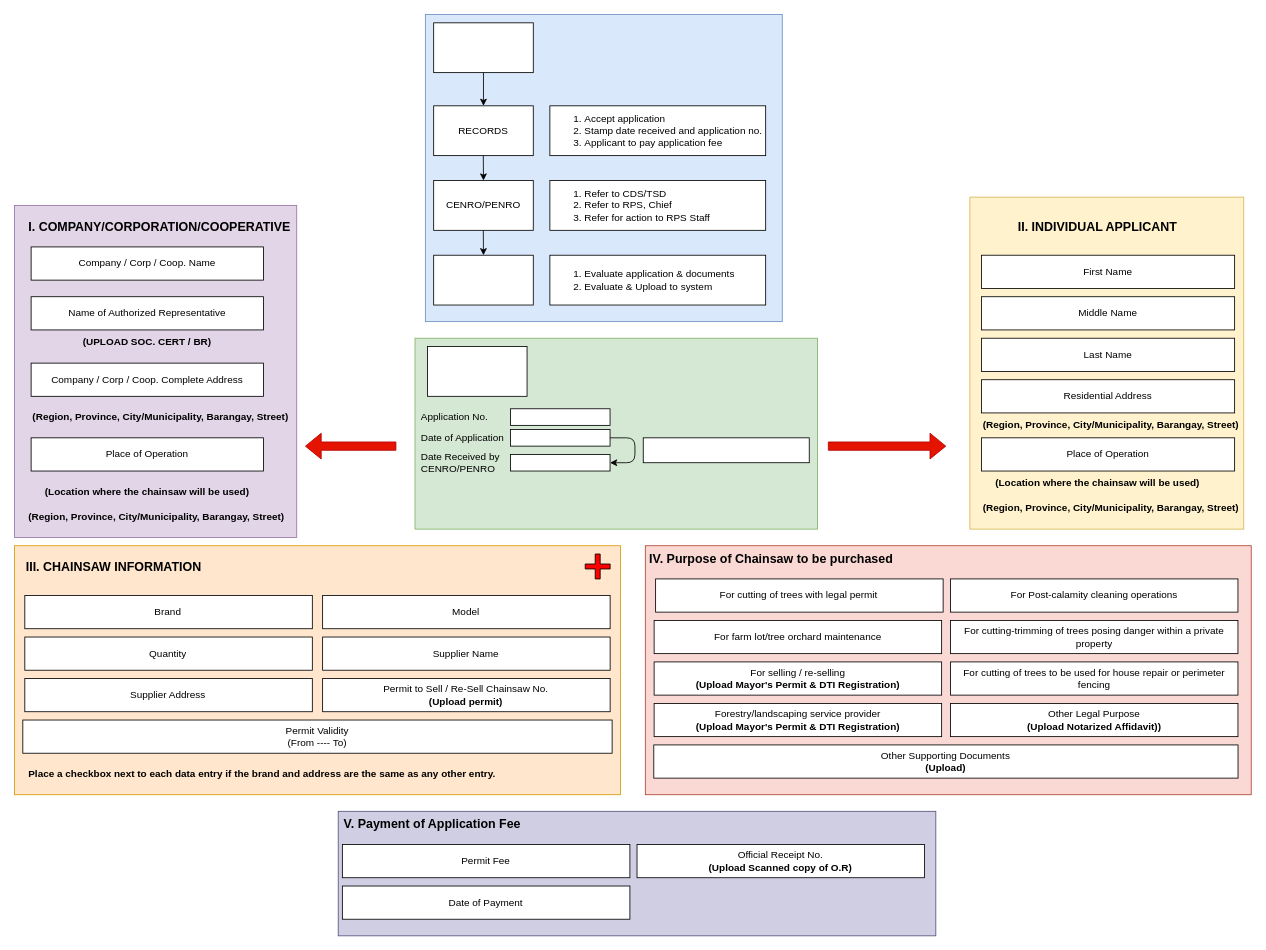
Some shapes in this 1266 by 950 pixel diagram are drawn without their labels. The shapes that lost their labels are listed below. From the top down, each one's centre as x and y in pixels, then its label:
At pixel 483 47: "APPLICANT".
At pixel 483 279: "RPS Staff".
At pixel 477 371: "Applicant Information".
At pixel 725 450: "for comment if dapat ba isa na lang".
